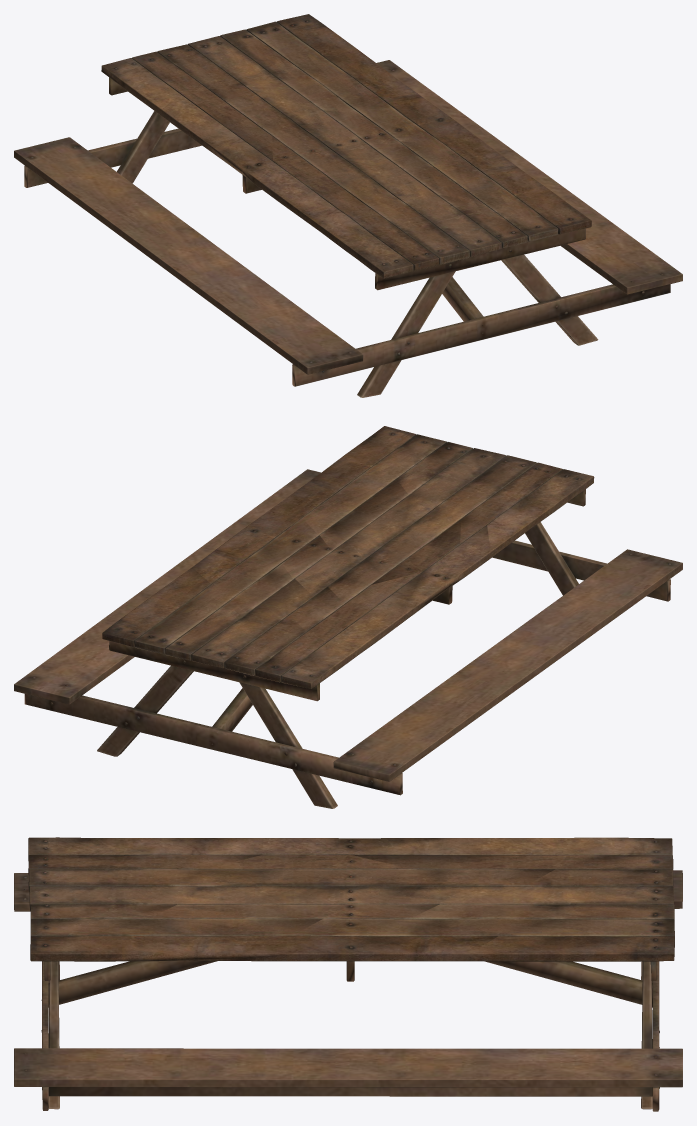
File: wooden_picnic_table_1k.gltf
The picture shows the model from 3 angles, top to bottom: view 1: azimuth 30°, elevation 25°; view 2: azimuth 150°, elevation 25°; view 3: azimuth 270°, elevation 25°; orthographic projection. The views are drawn at different scales.
Parts seen in each view (by area): view 1: wooden_picnic_table; view 2: wooden_picnic_table; view 3: wooden_picnic_table.
Part boxes in pixels (bbox=[...]): wooden_picnic_table: bbox=[14, 14, 682, 397]; wooden_picnic_table: bbox=[14, 426, 682, 808]; wooden_picnic_table: bbox=[14, 837, 682, 1111].
Size of the model in its own units: 2.24 by 0.746 by 3.02.
Materials: 2 (2 with a texture image).
